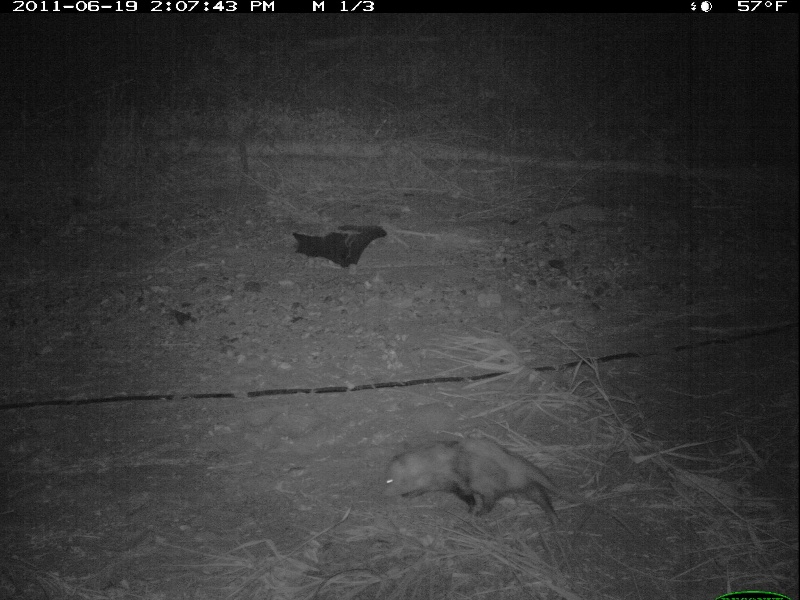opossum: (381, 439, 600, 525)
